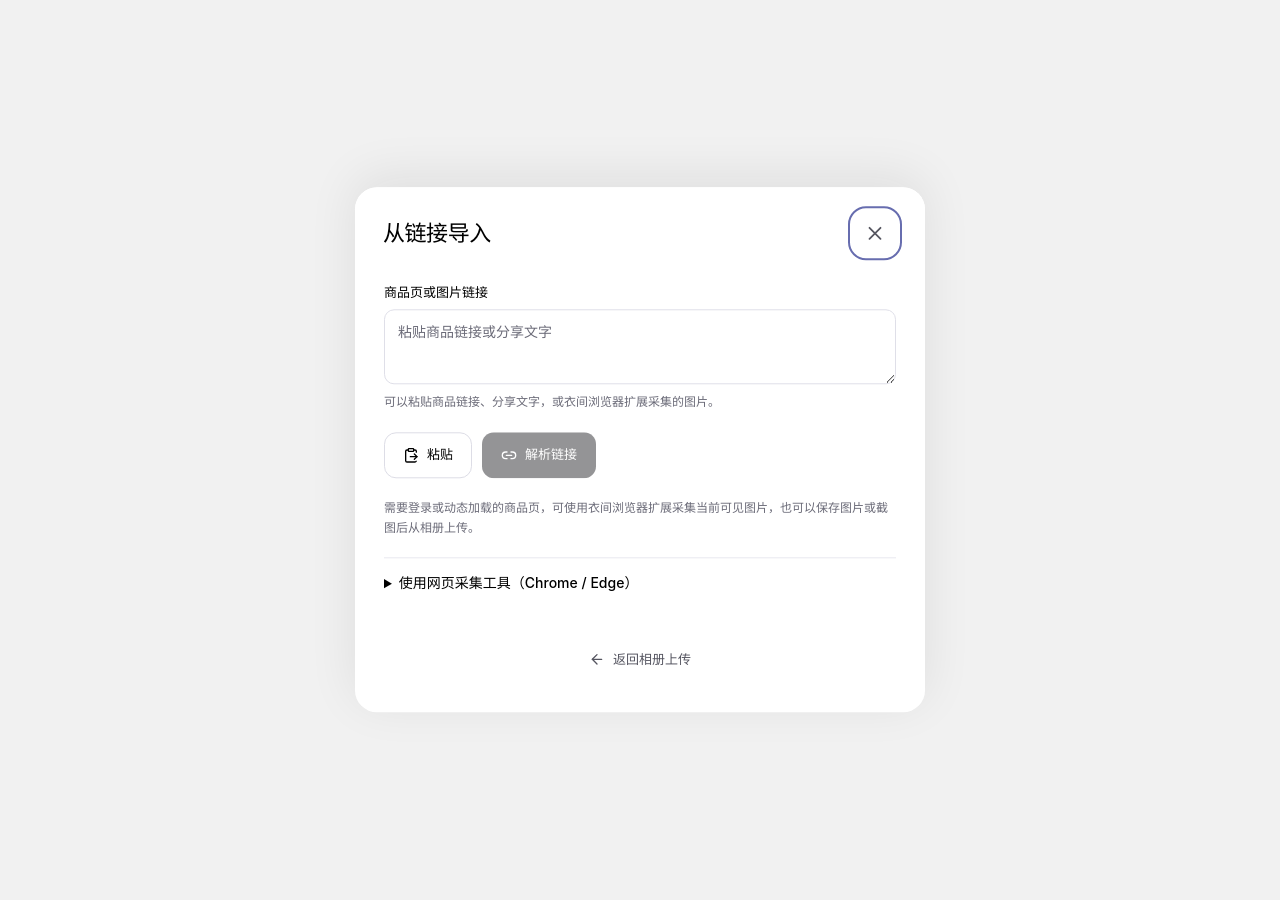
offers manual paste when clipboard permission is denied
Click the button "粘贴" at (428,455), box [384,432,472,478]
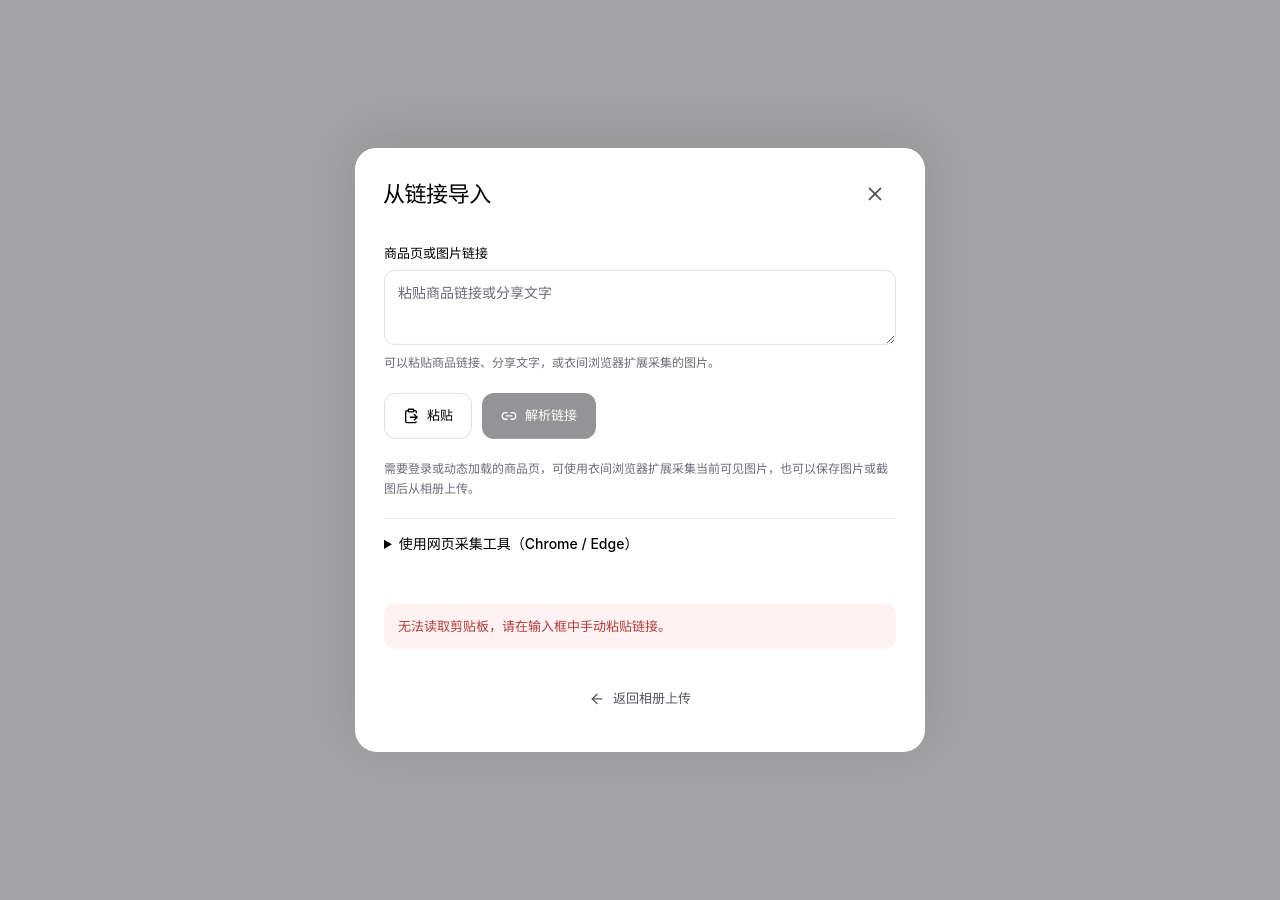
Expected: the text box labelled "商品页或图片链接" is enabled, [384,270,896,345]
Result: the message reads "无法读取剪贴板，请在输入框中手动粘贴链接。" at [398,618,671,634]
